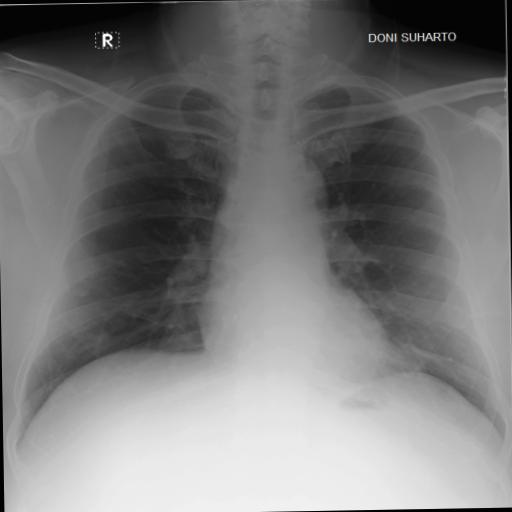normal: (0, 40, 510, 466)
